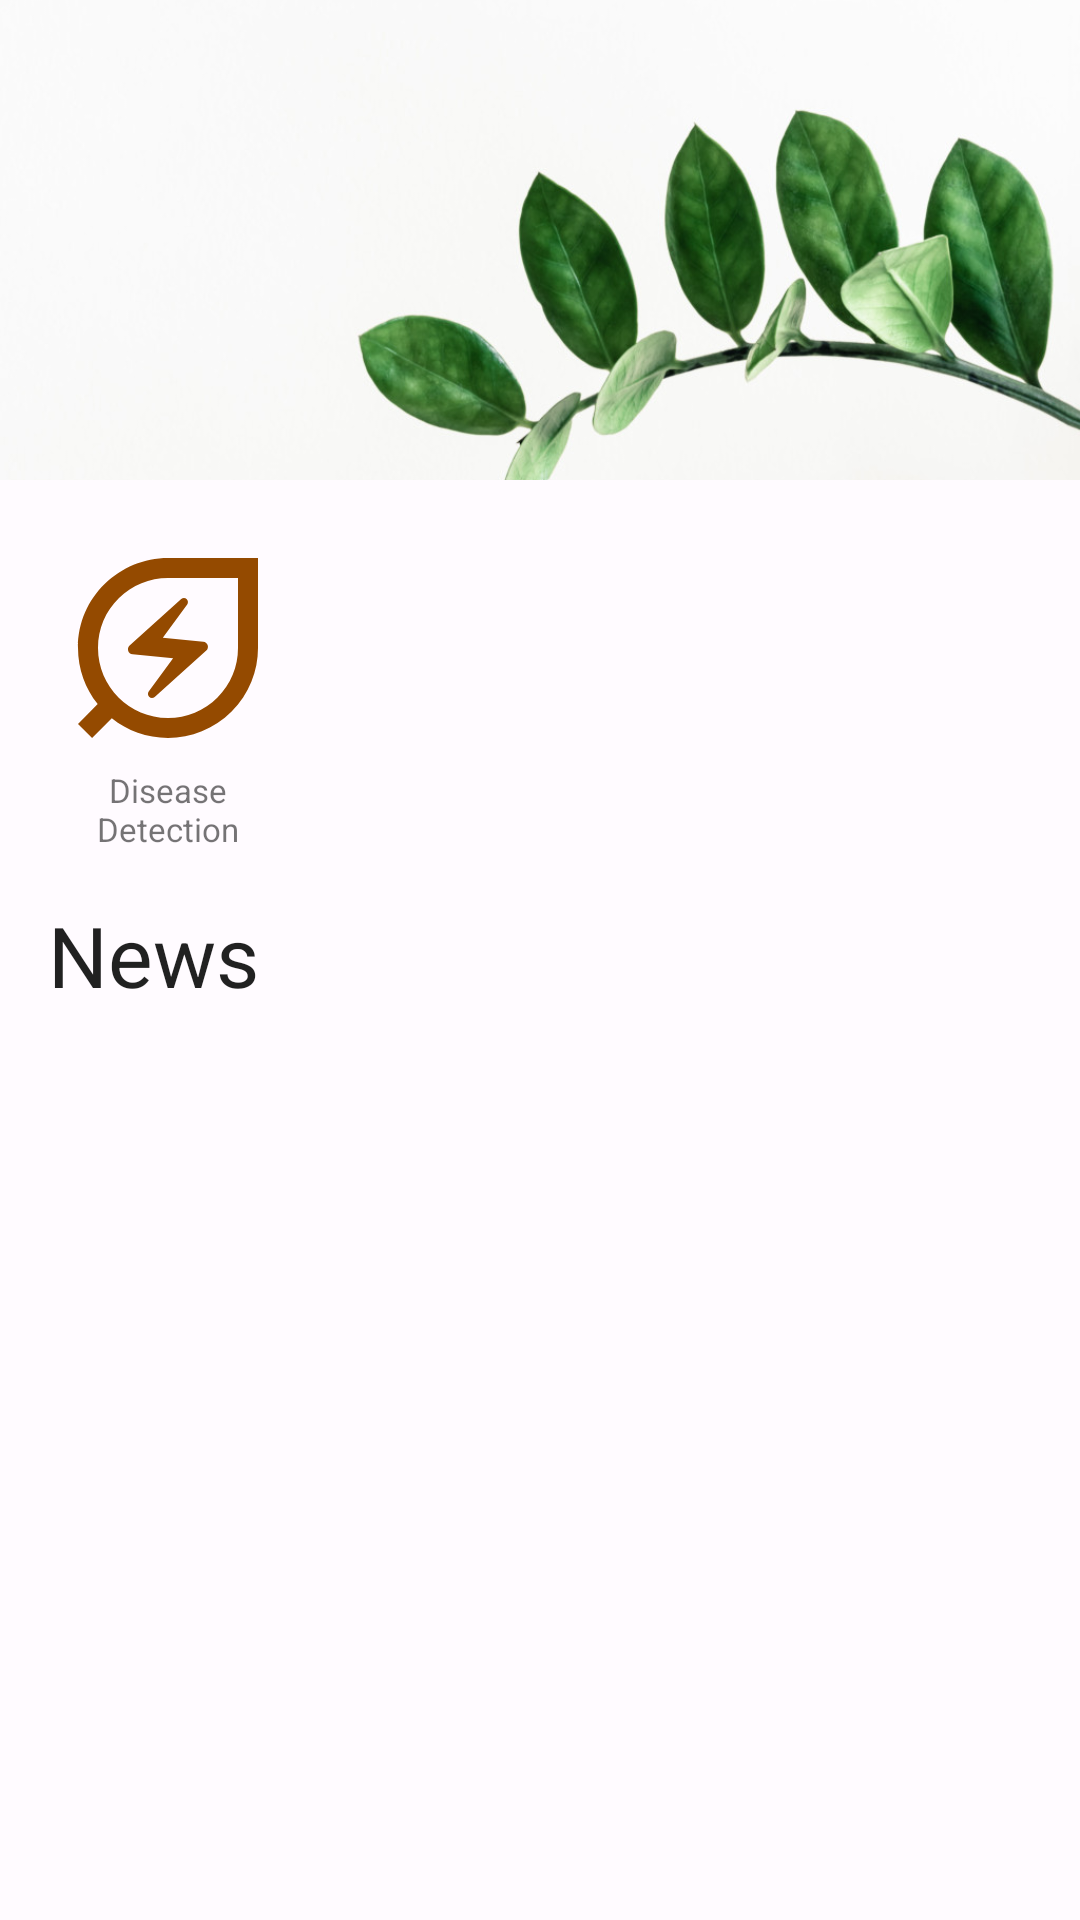

Screen size 1080px×1920px. Icon name, then its center in pixels as point (x, y):
energy savings leaf: point (167, 648)
